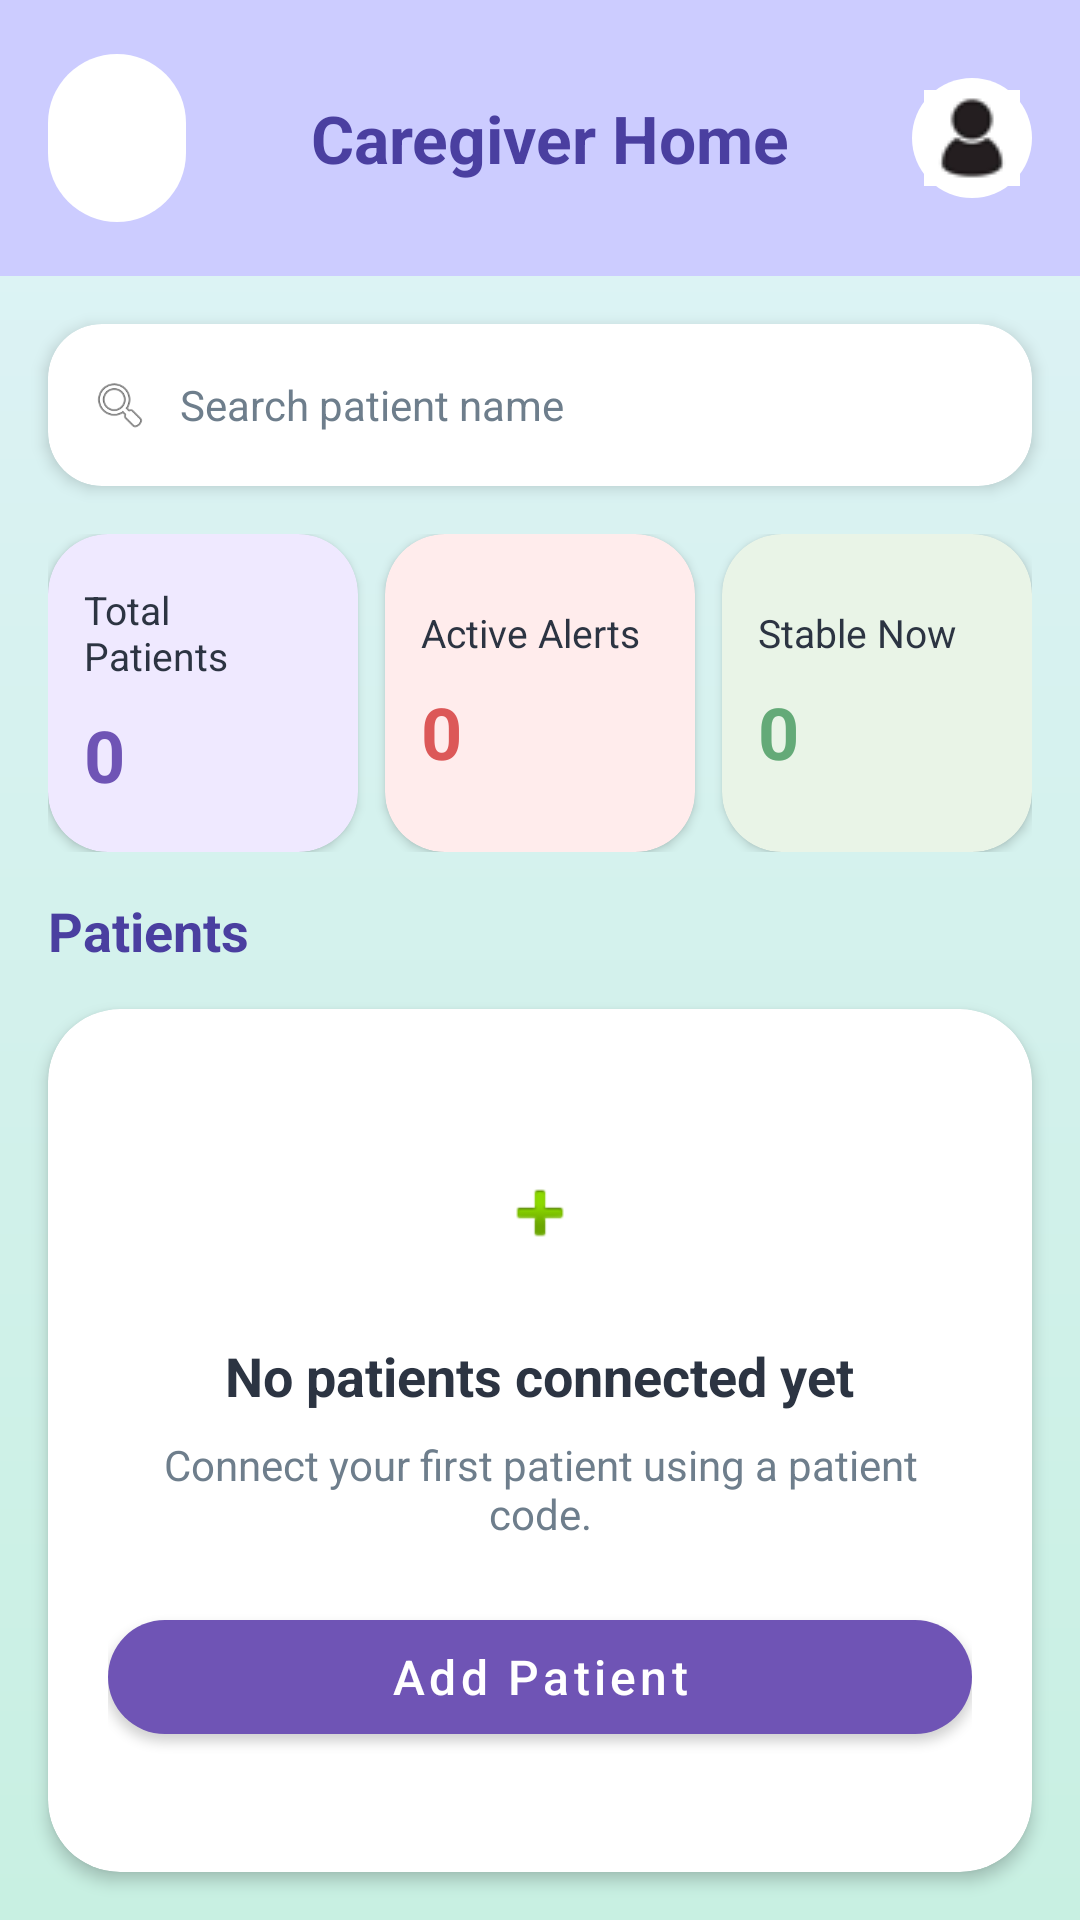

Where icons sit on this 1080px×1920px app screen, as (x1, y1, x2, y2):
add: (516, 1189, 564, 1237)
profile: (912, 78, 1032, 198)
